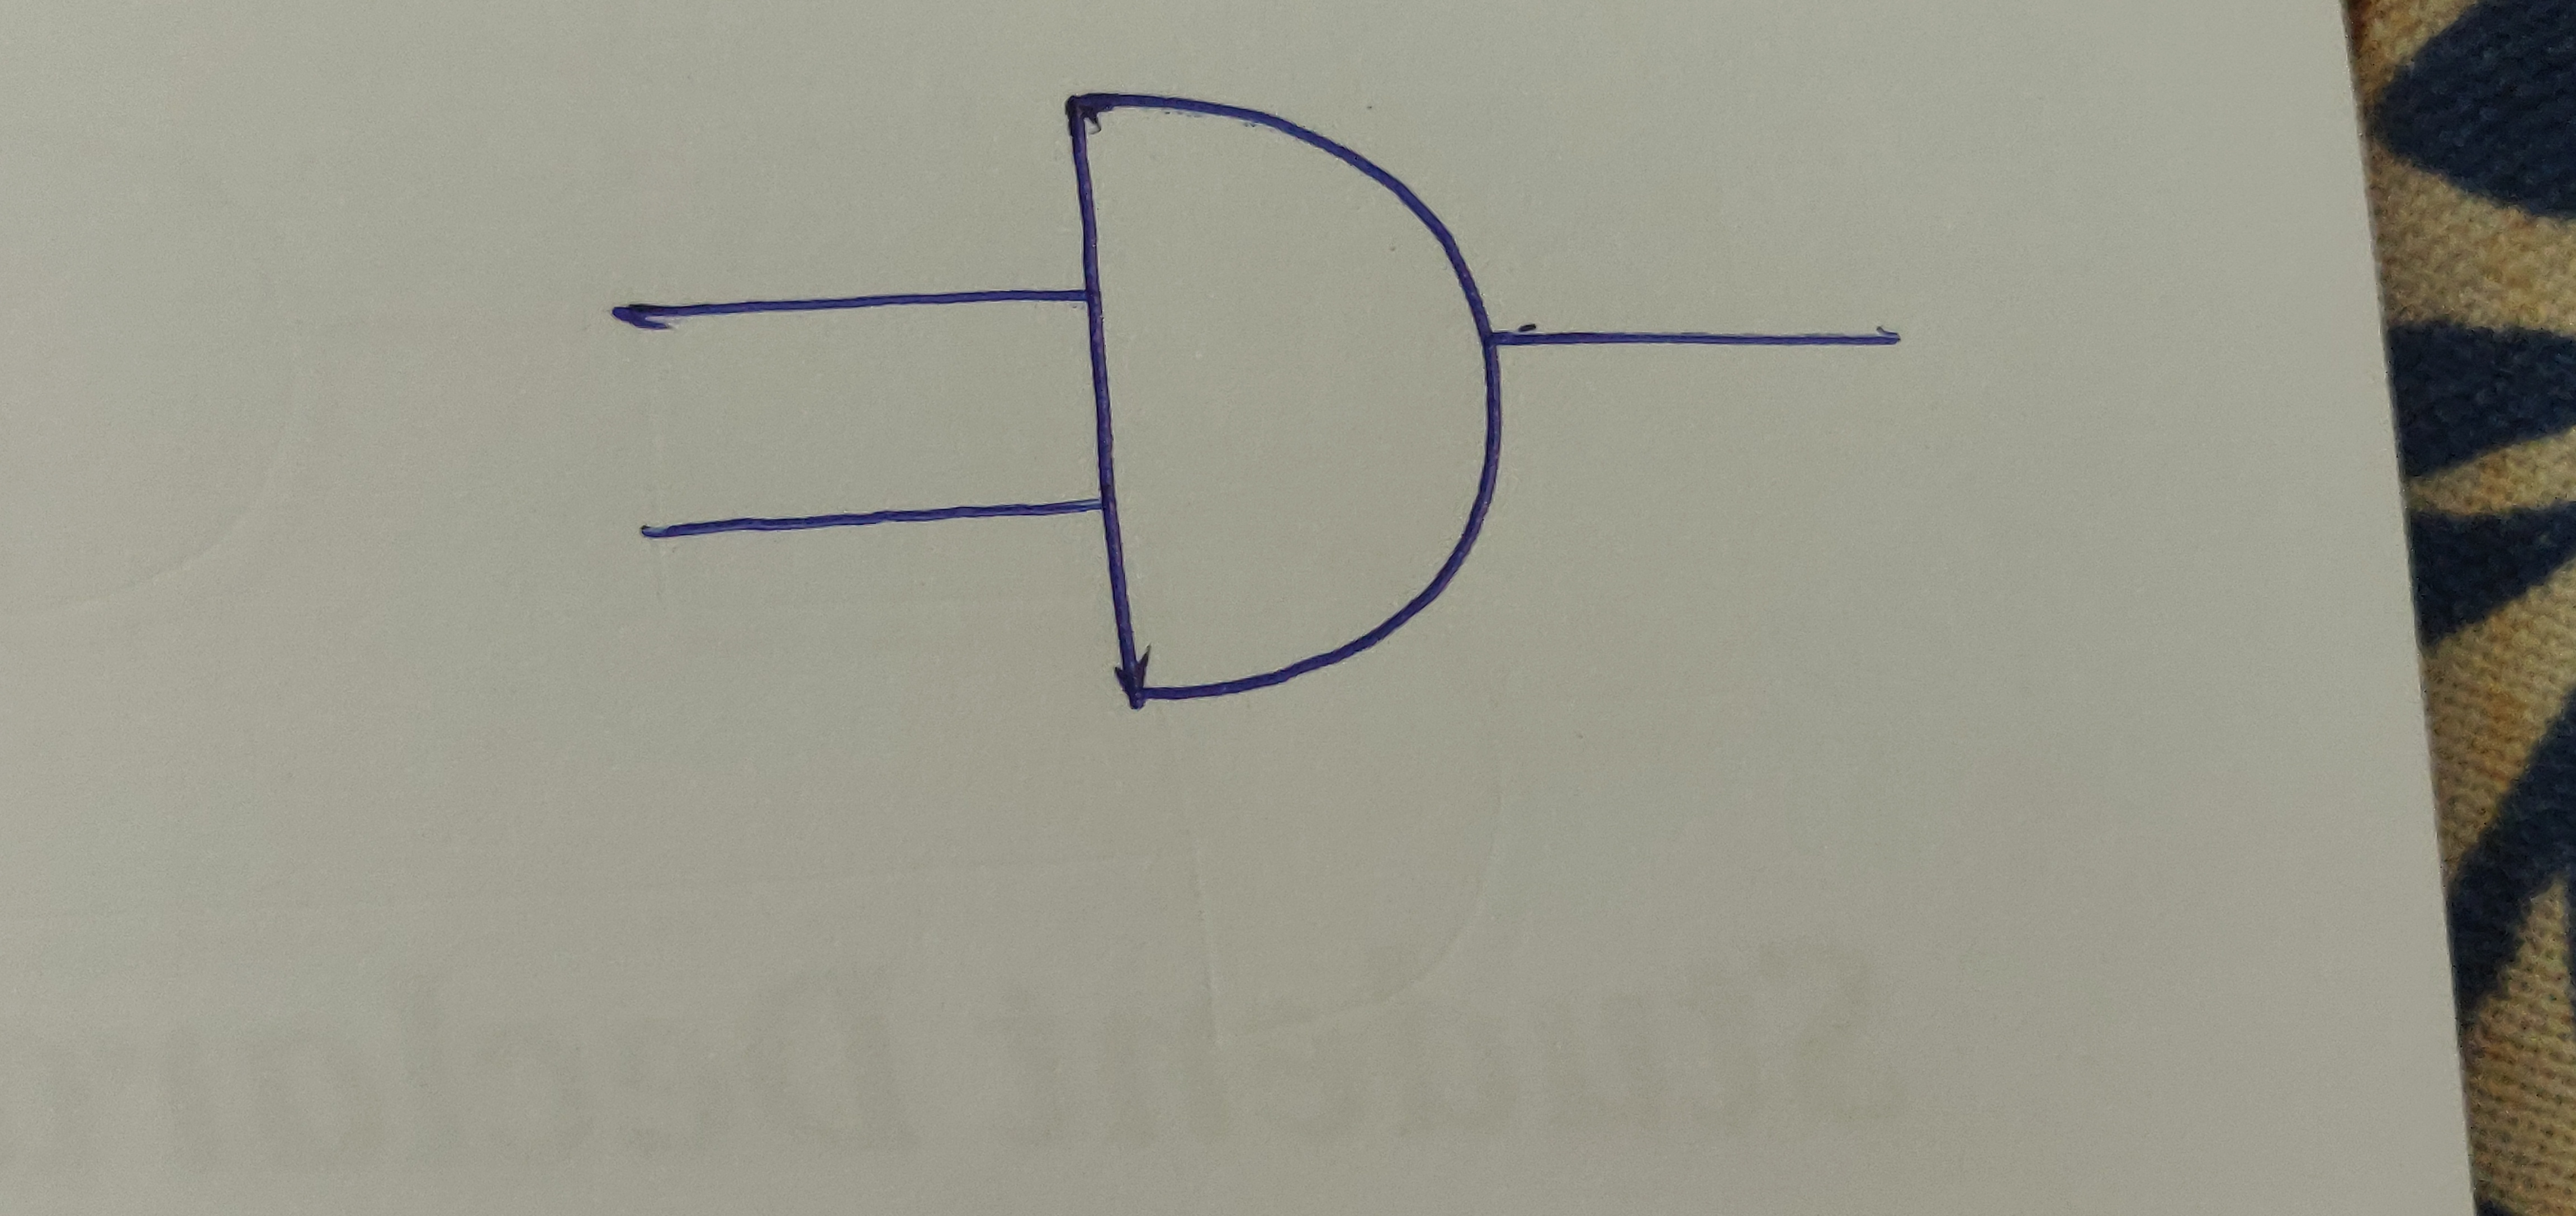and: (1056, 85, 1513, 707)
